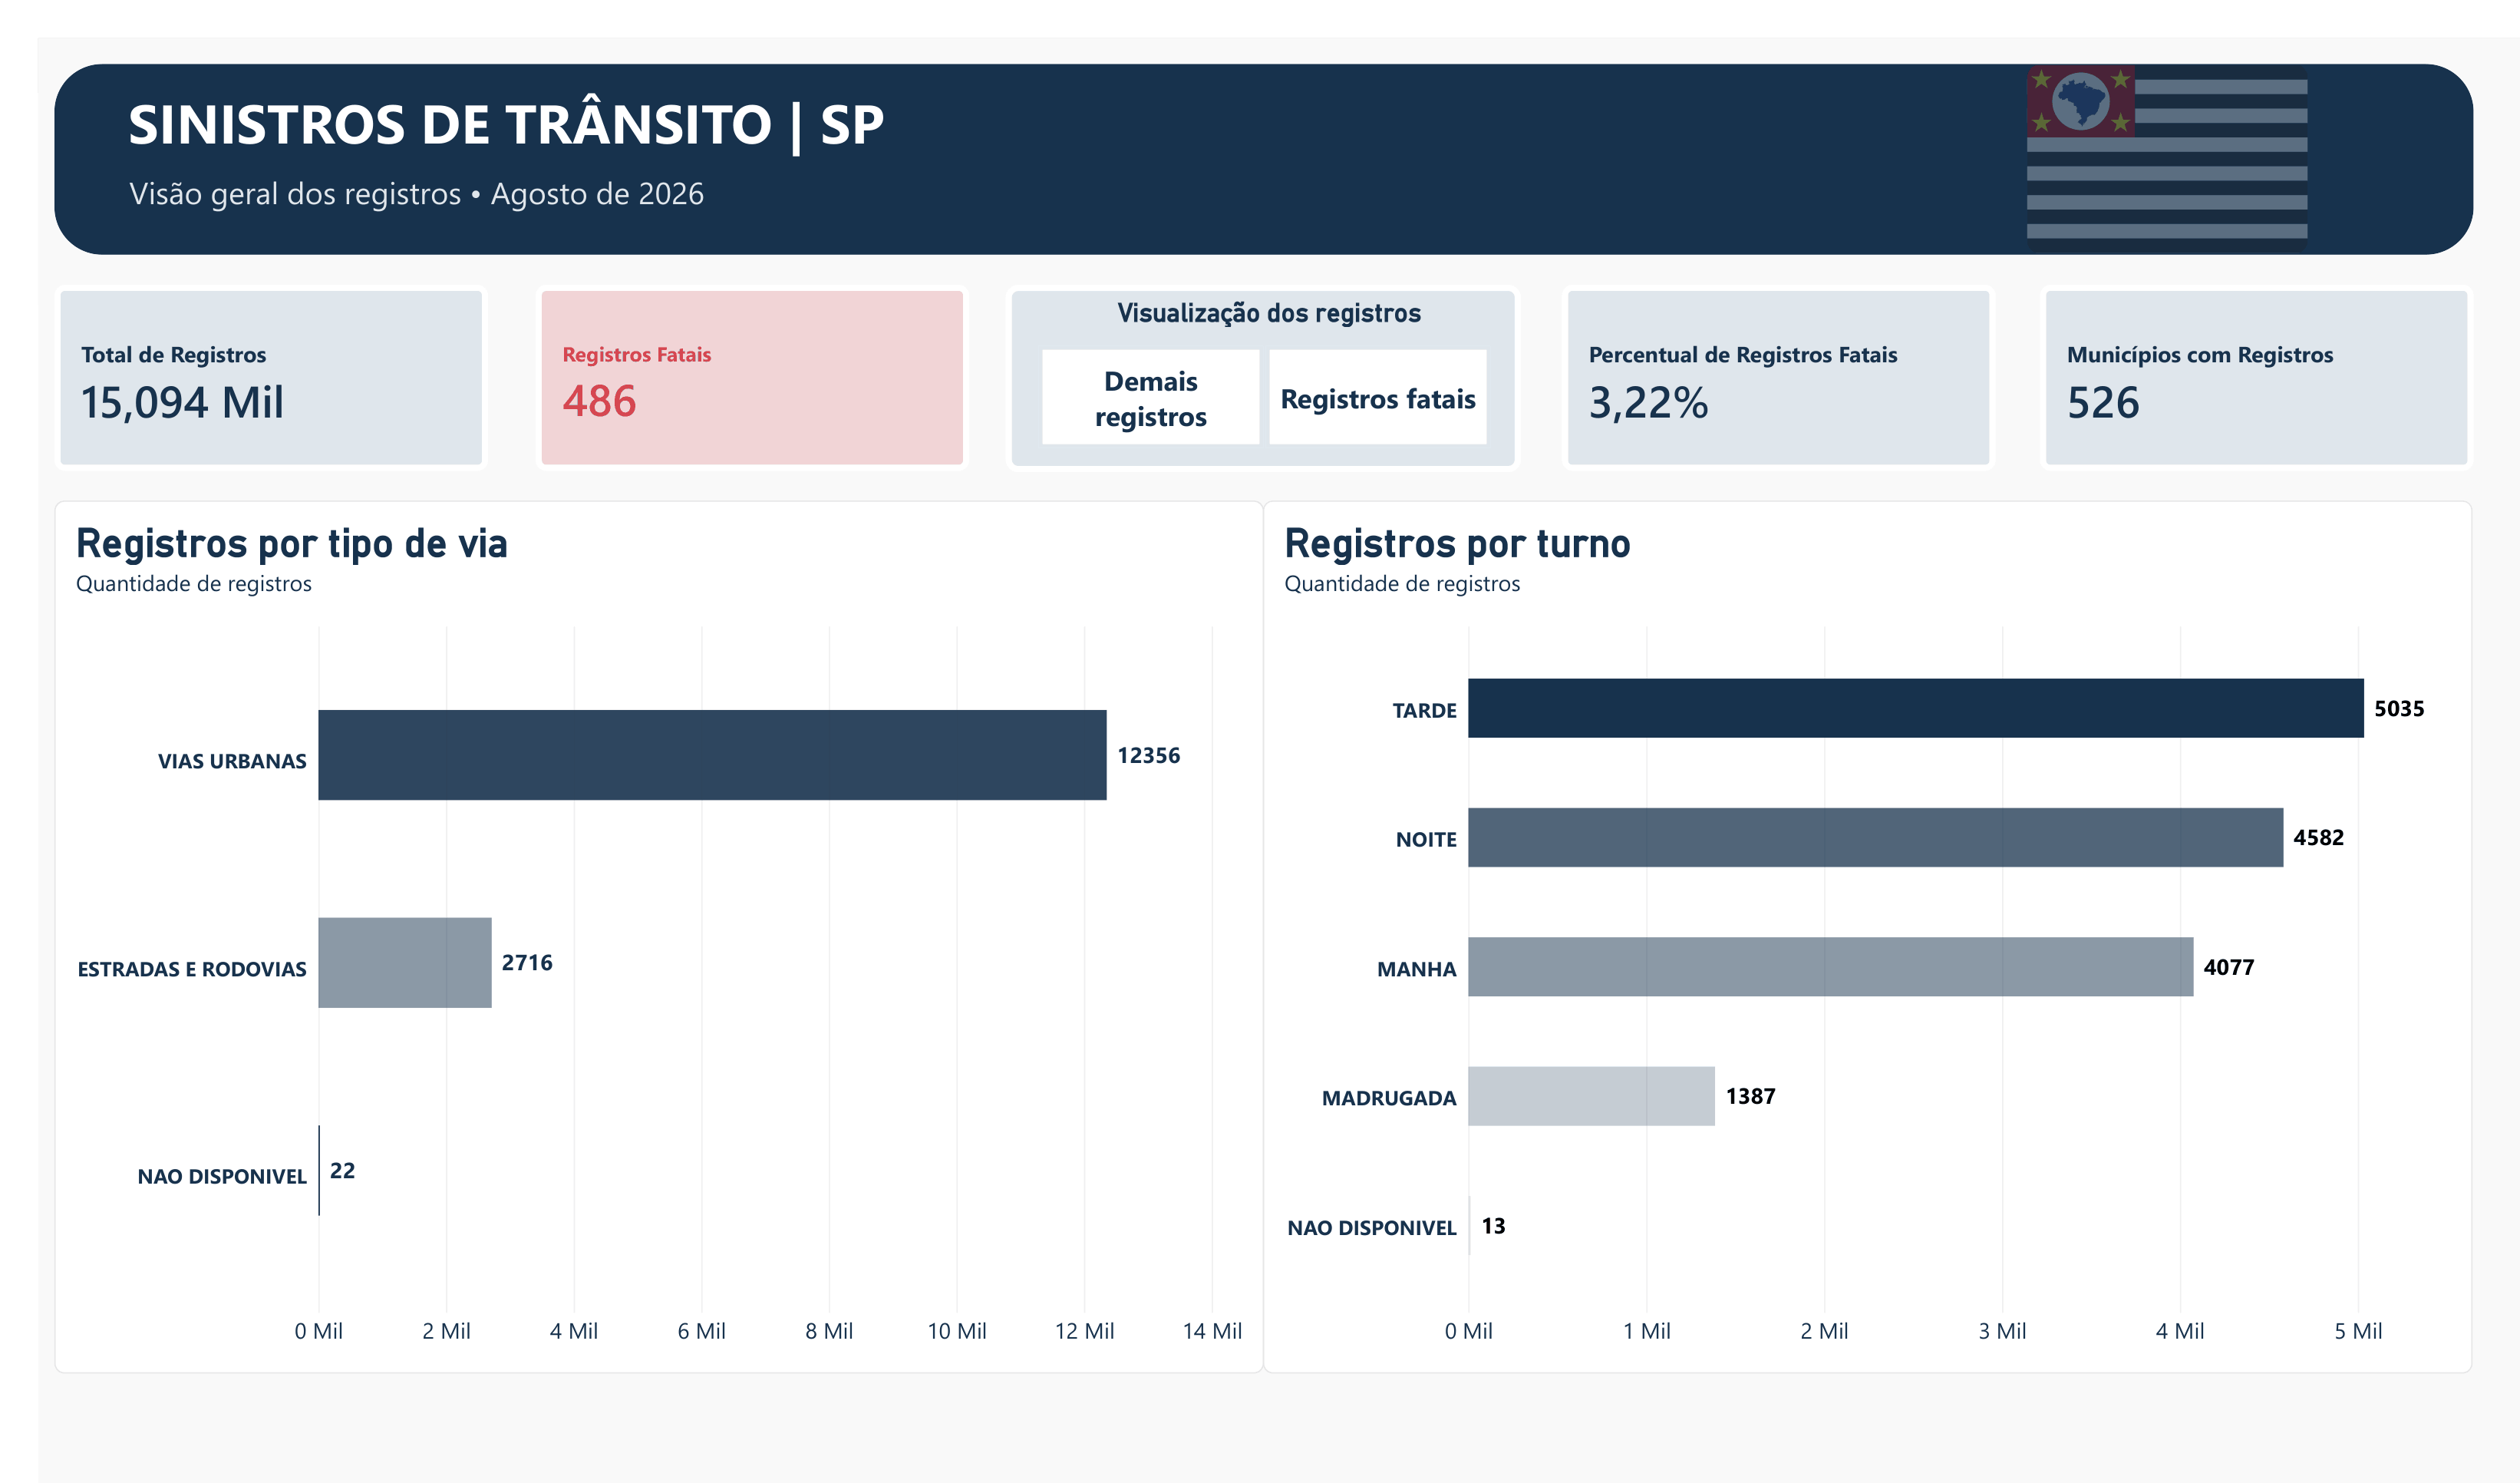

What the dashboard file says about the page in this screenshot:
{"tool":"powerbi","page":{"name":"Página 1 — Visão geral","canvas":[1920,1080],"ordinal":0},"visuals":[{"type":"cardVisual","fields":{"Data":["Sinistros.Registros Fatais"]},"box":[389.2,192.6,340,146.8],"z":0},{"type":"cardVisual","fields":{"Data":["Sinistros.Total de Registros"]},"box":[12.1,192.6,340,146.8],"z":1000},{"type":"cardVisual","fields":{"Data":["Sinistros.Percentual de Registros Fatais"]},"box":[1194.5,192.6,340,146.8],"z":2000},{"type":"cardVisual","fields":{"Data":["Sinistros.Municípios com Registros"]},"box":[1568.8,192.6,340,146.8],"z":3000},{"type":"shape","box":[12.1,20.2,1896.1,149.5],"z":4000},{"type":"textbox","box":[0,36.4,865.9,133.3],"z":5000},{"type":"textbox","box":[71.4,103.7,599.3,53.9],"z":6000},{"type":"barChart","title":"Registros por turno","fields":{"Category":["Sinistros.turno"],"Y":["Sinistros.Total de Registros"]},"box":[960.1,362.2,948,684.1],"z":7000},{"type":"barChart","title":"Registros por tipo de via","fields":{"Category":["Sinistros.tipo_via"],"Y":["Sinistros.Total de Registros"]},"box":[12.1,362.2,948,684.1],"z":8000},{"type":"image","box":[1558.2,20.4,220.3,148.8],"z":9000},{"type":"slicer","title":"Visualização dos registros","fields":{"Values":["Sinistros.Classificação Fatalidade"]},"box":[758.2,192.6,404,146.8],"z":10000}]}

Visuals, with their boxes on the page's 1920x1080 design canvas (x1, y1, x2, y2). These are canvas units, not pixel positions in the 2520x1483 screenshot, which may show the page scaled, cropped or inside an application window:
cardVisual - Sinistros.Registros Fatais: <region>389, 193, 729, 339</region>
cardVisual - Sinistros.Total de Registros: <region>12, 193, 352, 339</region>
cardVisual - Sinistros.Percentual de Registros Fatais: <region>1194, 193, 1534, 339</region>
cardVisual - Sinistros.Municípios com Registros: <region>1569, 193, 1909, 339</region>
shape: <region>12, 20, 1908, 170</region>
textbox: <region>0, 36, 866, 170</region>
textbox: <region>71, 104, 671, 158</region>
"Registros por turno" barChart: <region>960, 362, 1908, 1046</region>
"Registros por tipo de via" barChart: <region>12, 362, 960, 1046</region>
image: <region>1558, 20, 1778, 169</region>
"Visualização dos registros" slicer: <region>758, 193, 1162, 339</region>
